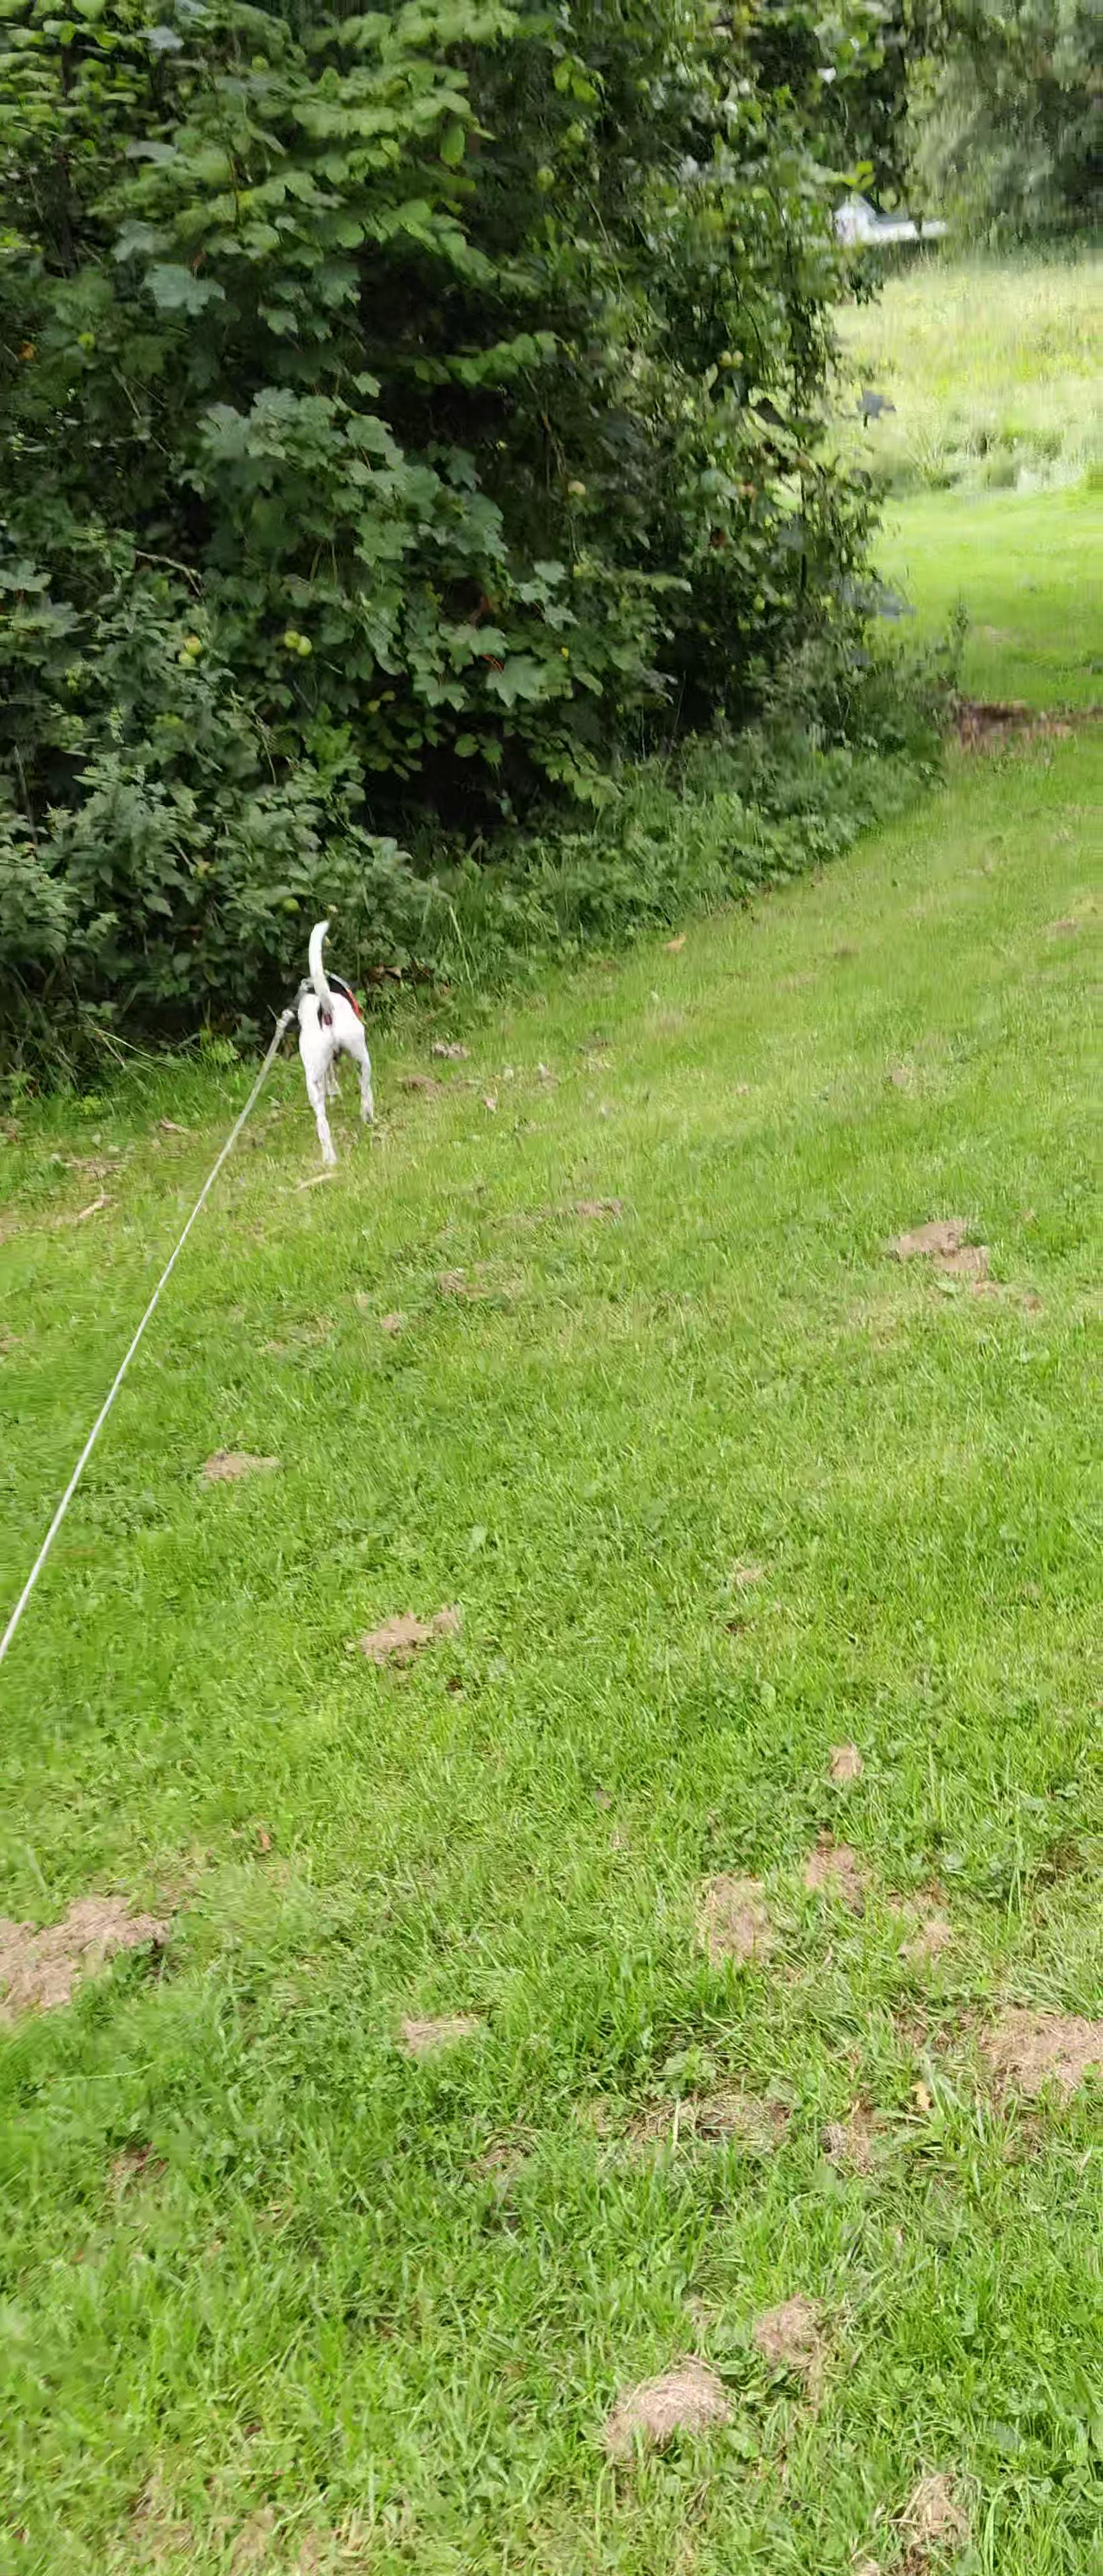Dog: (288, 915, 383, 1171)
